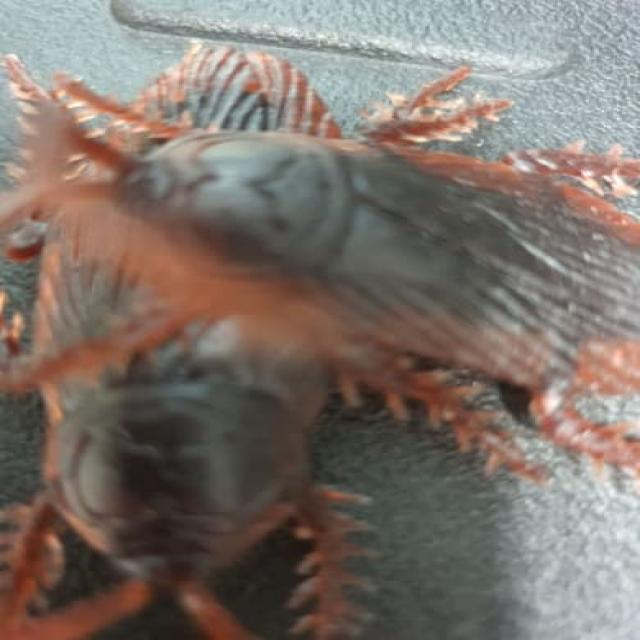Cockroach: (1, 49, 640, 473), (46, 21, 382, 640)
